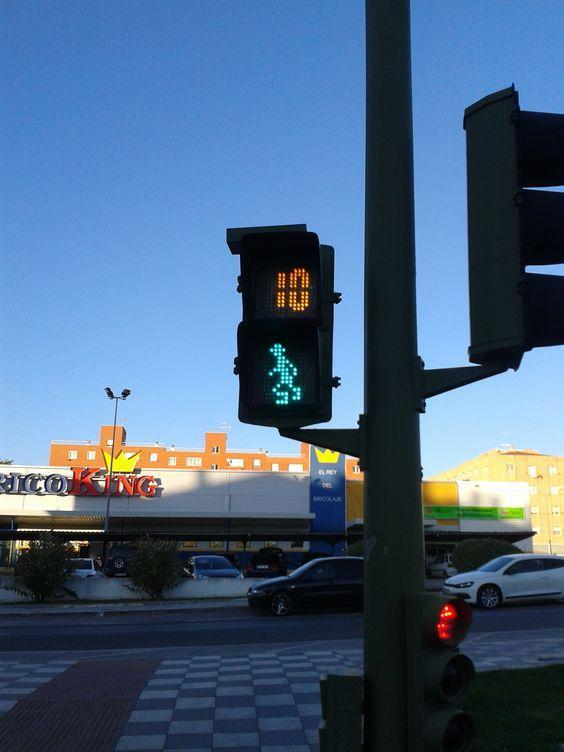green: (200, 210, 350, 432)
